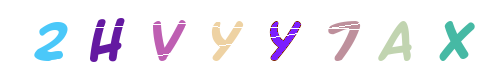2: (11, 0, 91, 80)
7: (242, 0, 322, 80)
A: (278, 0, 358, 80)
H: (66, 0, 146, 80)
V: (198, 0, 278, 80)
X: (416, 0, 496, 80)
Y: (210, 0, 290, 80), (242, 0, 322, 80)
